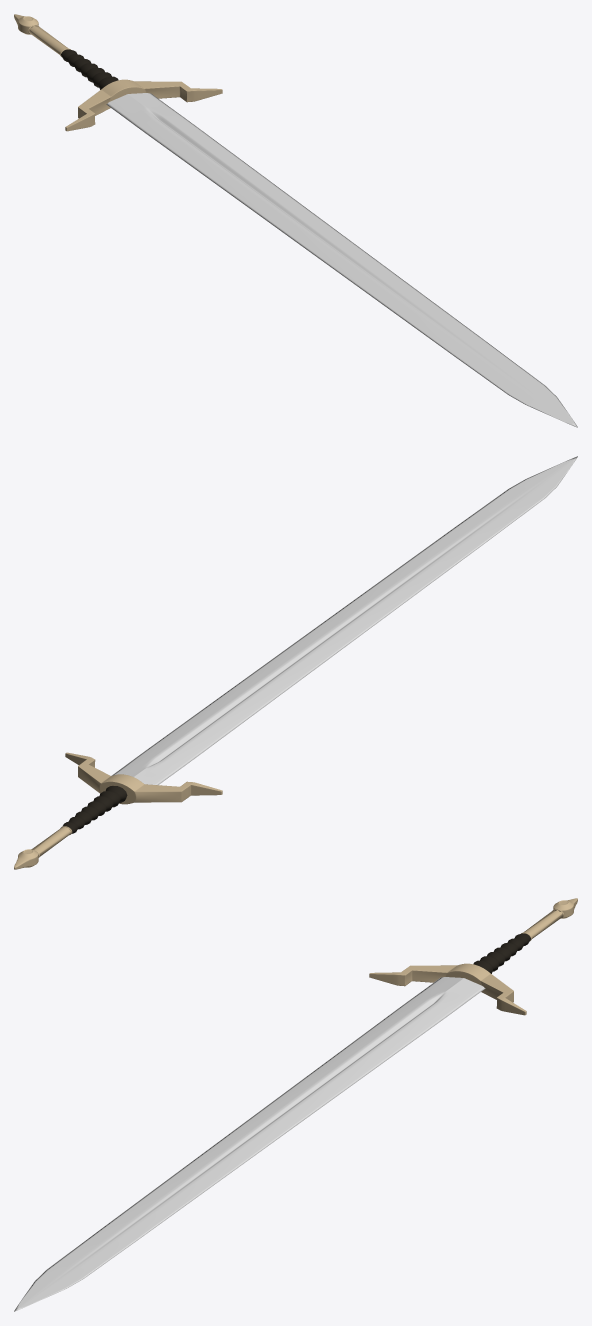
The model's file is Sword.dae.
3 views of the same model, one above another, from view 1: azimuth 30°, elevation 25°; view 2: azimuth 150°, elevation 25°; view 3: azimuth 330°, elevation 25° (orthographic).
Parts seen in each view (by area): view 1: Sword; view 2: Sword; view 3: Sword.
Boxes of the visible parts, bbox=[...] form: Sword: bbox=[14, 14, 577, 427]; Sword: bbox=[14, 456, 577, 869]; Sword: bbox=[14, 898, 577, 1311].
Size of the model in its own units: 17.82 by 111 by 2.29.
